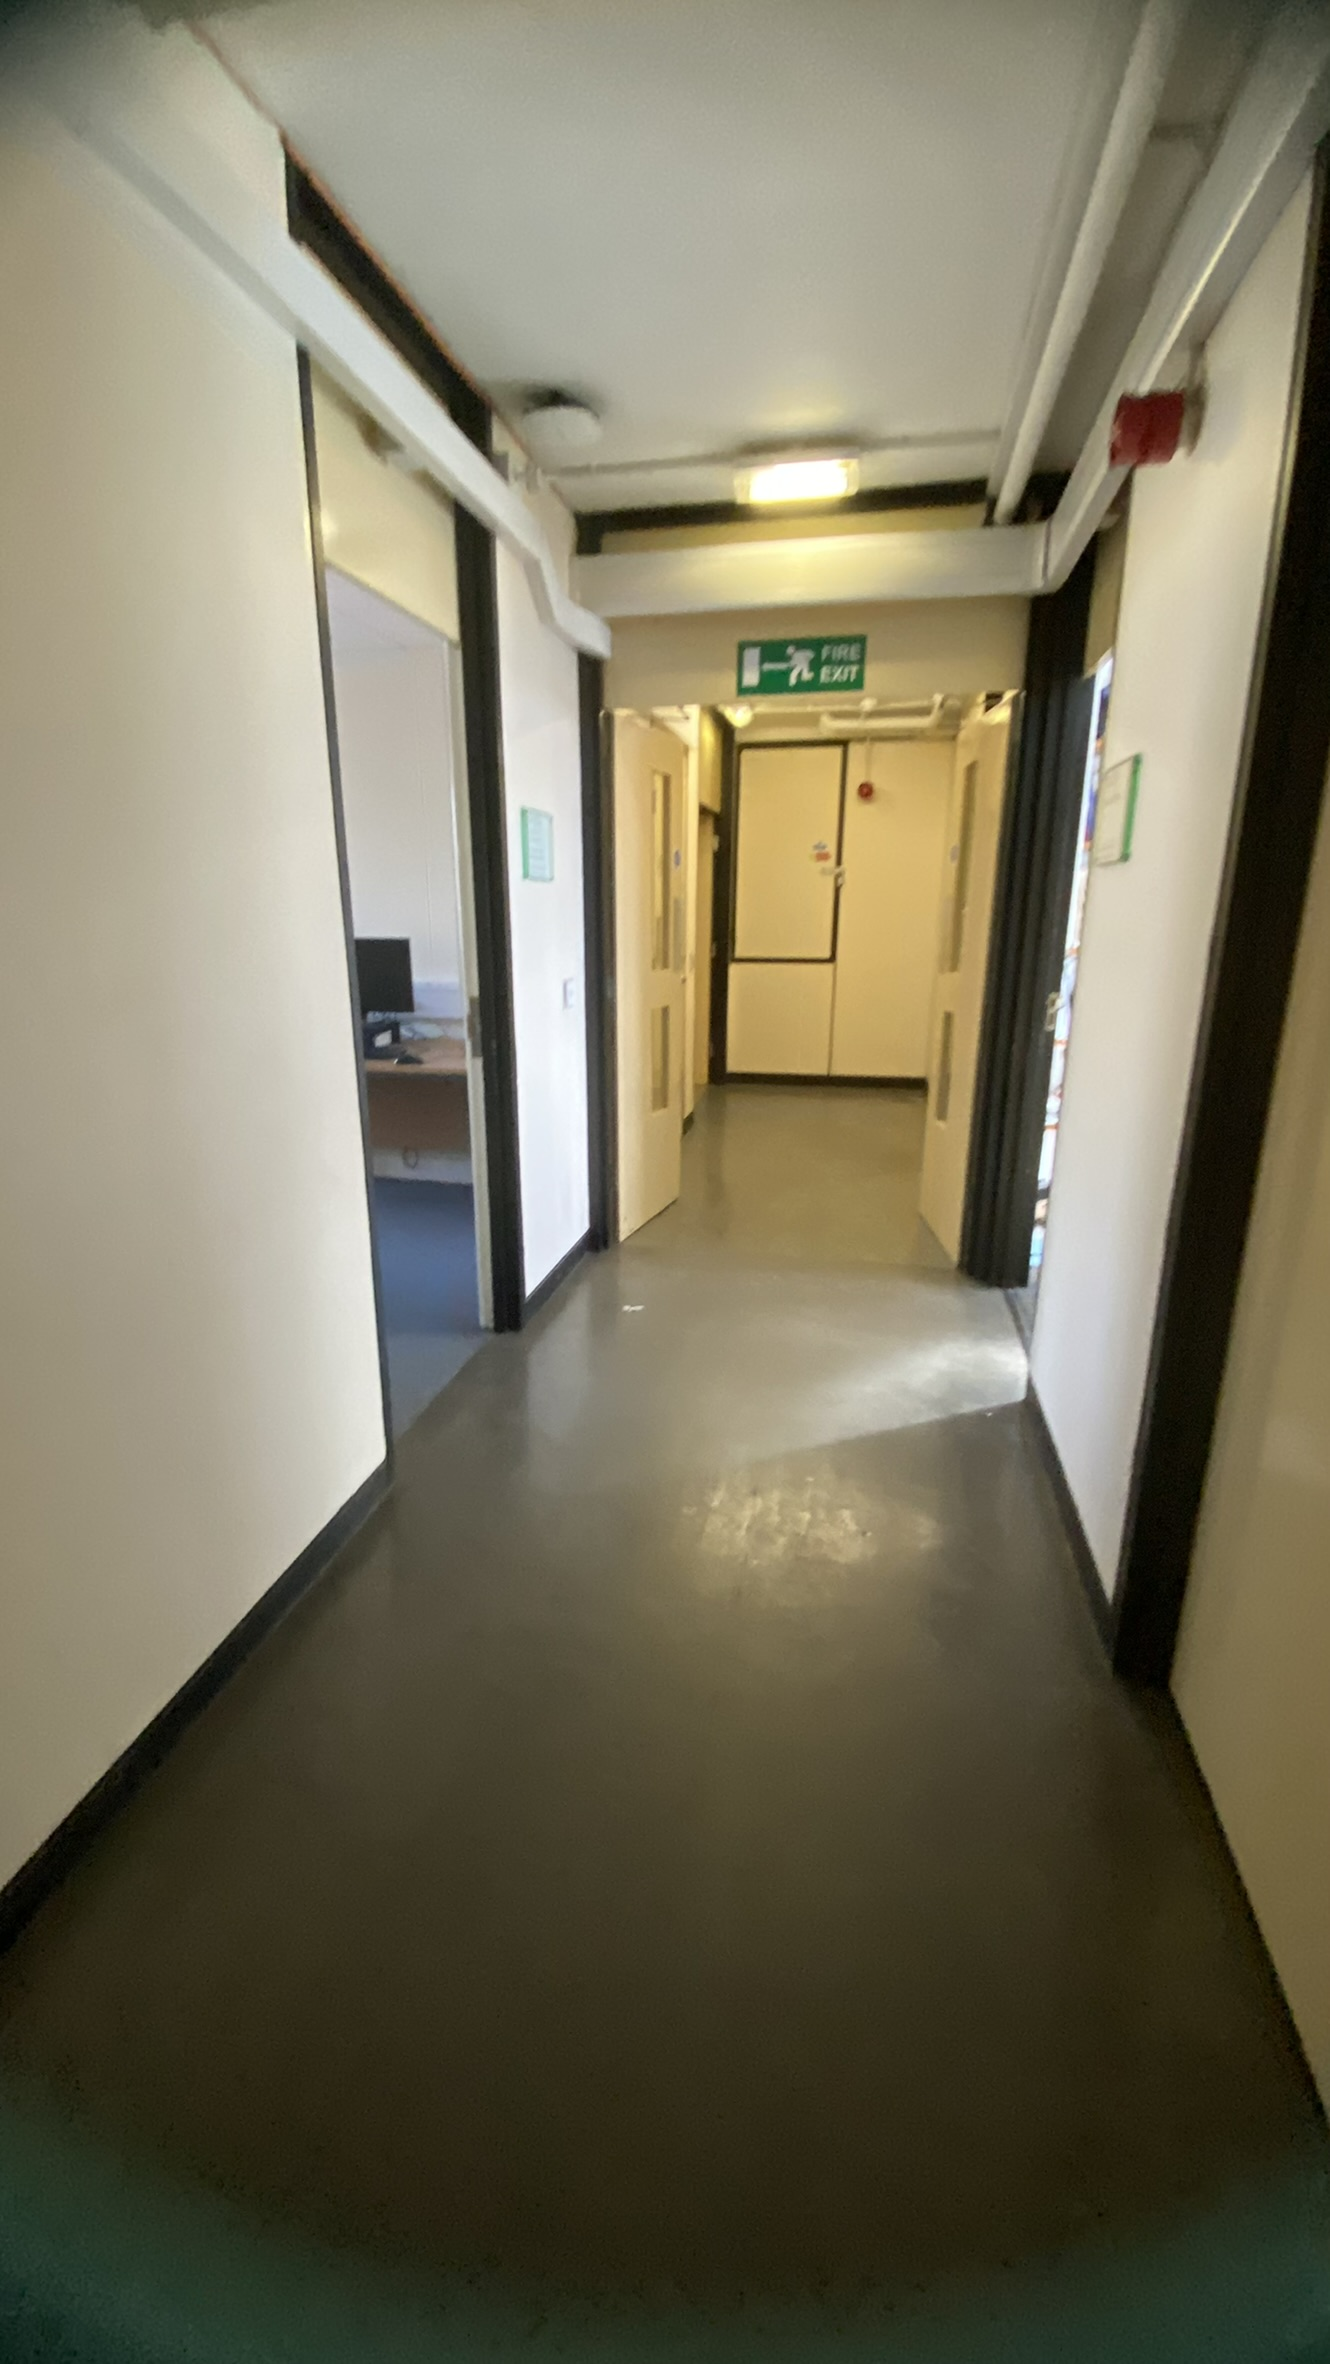door: (208, 260, 568, 1495), (581, 622, 1124, 1197)
